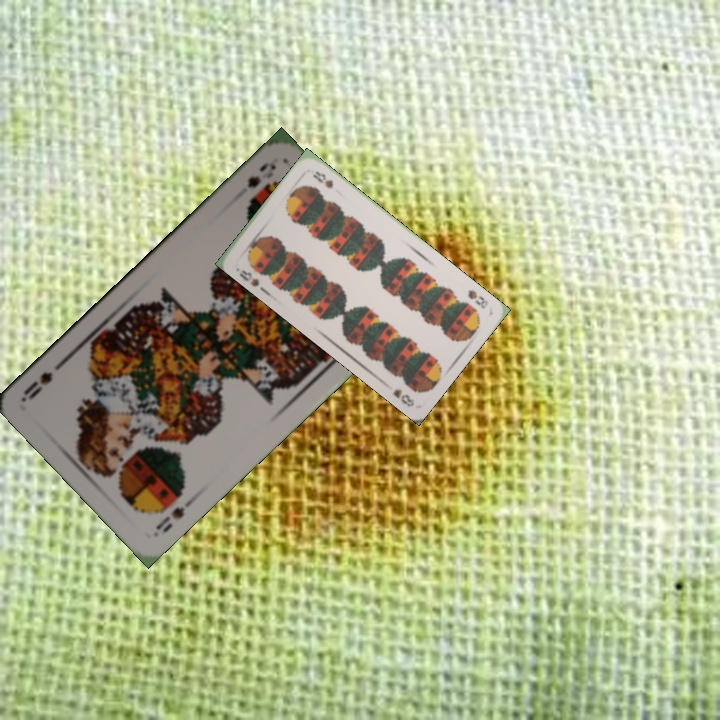S8: (464, 286, 491, 311), (235, 265, 262, 289)
SO: (151, 493, 198, 536), (243, 157, 279, 191)
